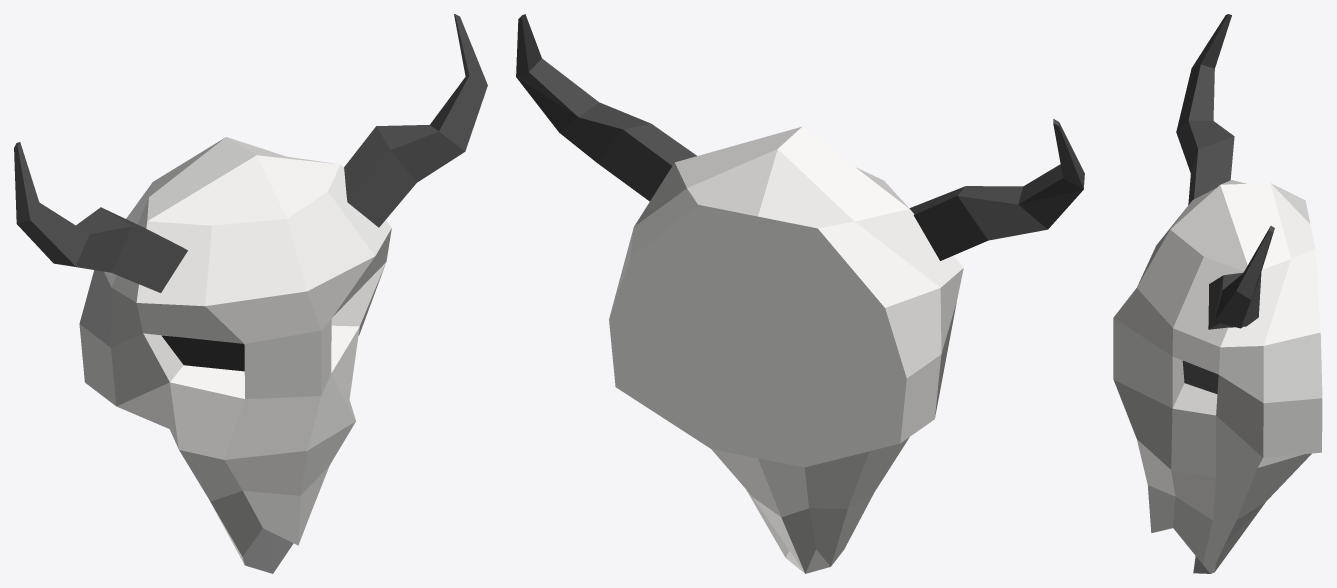
Rendered from Skull_1.fbx.
3 views of the same model, side by side, from view 1: azimuth 30°, elevation 25°; view 2: azimuth 150°, elevation 25°; view 3: azimuth 270°, elevation 25° (orthographic). The views are drawn at different scales.
Visible parts, largest first — view 1: Skull_1; view 2: Skull_1; view 3: Skull_1.
Part boxes in pixels (<box>): Skull_1: <box>14,14,487,573</box>; Skull_1: <box>516,14,1084,573</box>; Skull_1: <box>1113,14,1322,573</box>.
Size of the model in its own units: 78.87 by 30.63 by 72.91.
